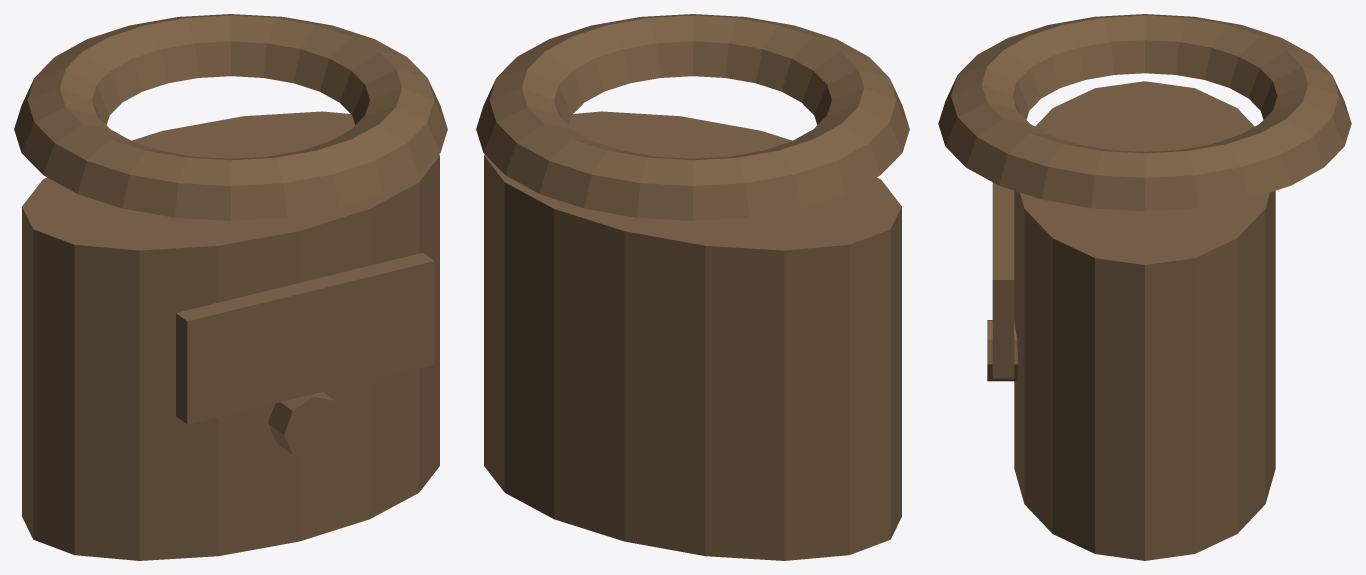
File: padlock.glb
3 renders of one model, left to right at view 1: azimuth 30°, elevation 25°; view 2: azimuth 150°, elevation 25°; view 3: azimuth 270°, elevation 25°, orthographic. The views are drawn at different scales.
Visible parts, largest first — view 1: padlock; view 2: padlock; view 3: padlock.
Boxes of the visible parts, box(x1,y1,x2,y2) form: padlock: box(14, 14, 447, 560); padlock: box(476, 14, 909, 560); padlock: box(938, 14, 1351, 560).
Size of the model in its own units: 0.04 by 0.039 by 0.038.
